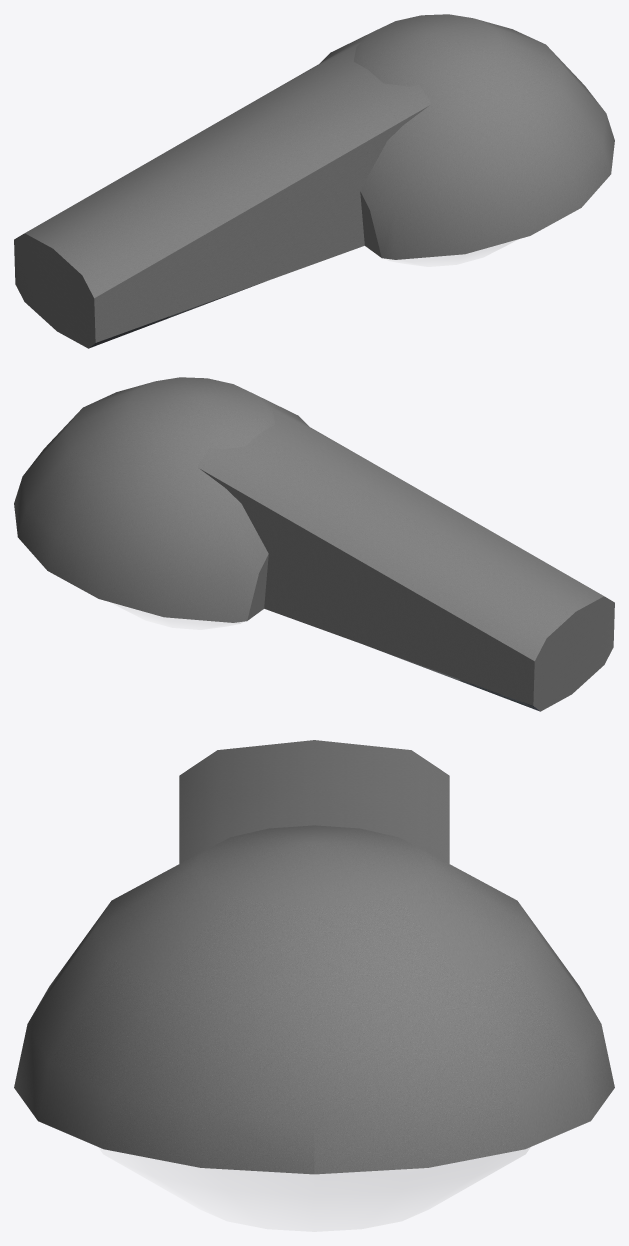
Rendered from Stradasole_530.glb.
3 renders of one model, top to bottom at view 1: azimuth 30°, elevation 25°; view 2: azimuth 150°, elevation 25°; view 3: azimuth 270°, elevation 25°, orthographic. The views are drawn at different scales.
Parts seen in each view (by area): view 1: Stradasole 530; view 2: Stradasole 530; view 3: Stradasole 530.
Boxes of the visible parts, box(x1,y1,x2,y2) form: Stradasole 530: box(14, 14, 614, 348); Stradasole 530: box(14, 377, 614, 711); Stradasole 530: box(14, 740, 614, 1231).
Size of the model in its own units: 0.8929 by 0.3374 by 0.5107.
Materials: 3 (2 with a texture image).
